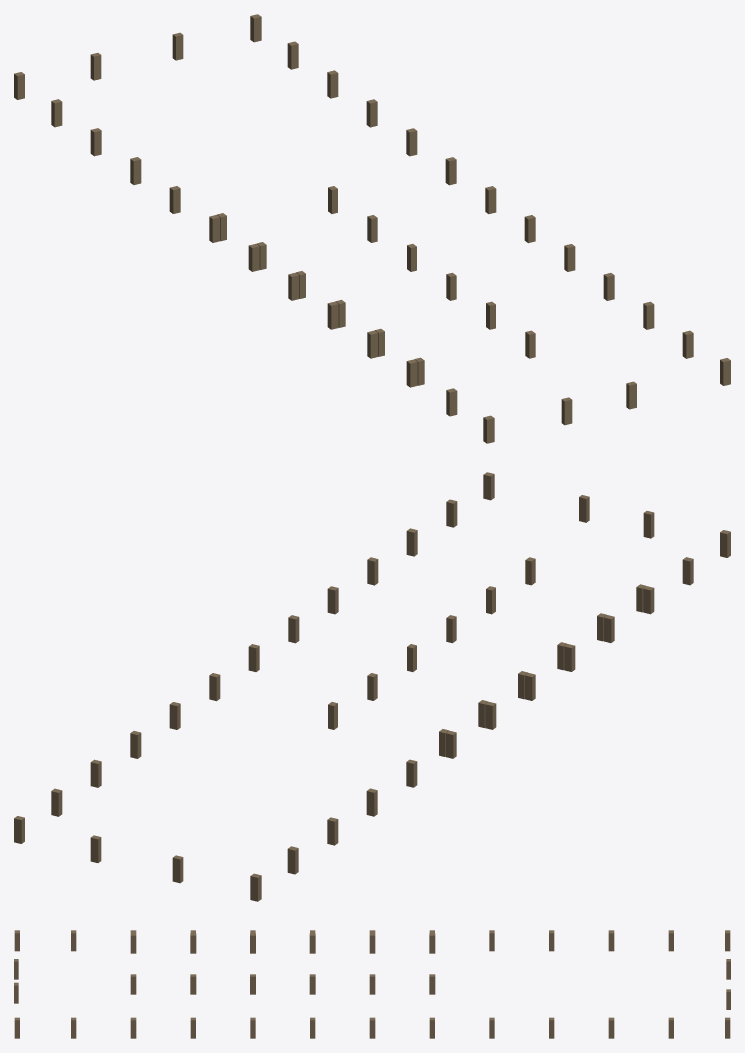
Rendered from pedestal.glb.
3 views of the same model, one above another, from view 1: azimuth 30°, elevation 25°; view 2: azimuth 150°, elevation 25°; view 3: azimuth 270°, elevation 25° (orthographic). The views are drawn at different scales.
Visible parts, largest first — view 1: pedestal; view 2: pedestal; view 3: pedestal.
Boxes of the visible parts, x1,y1,x2,y2 form: pedestal: (14,14,730,443); pedestal: (14,472,730,901); pedestal: (14,930,730,1038).
Bounding box in the file's own units: 17.83 × 1.67 × 60.
